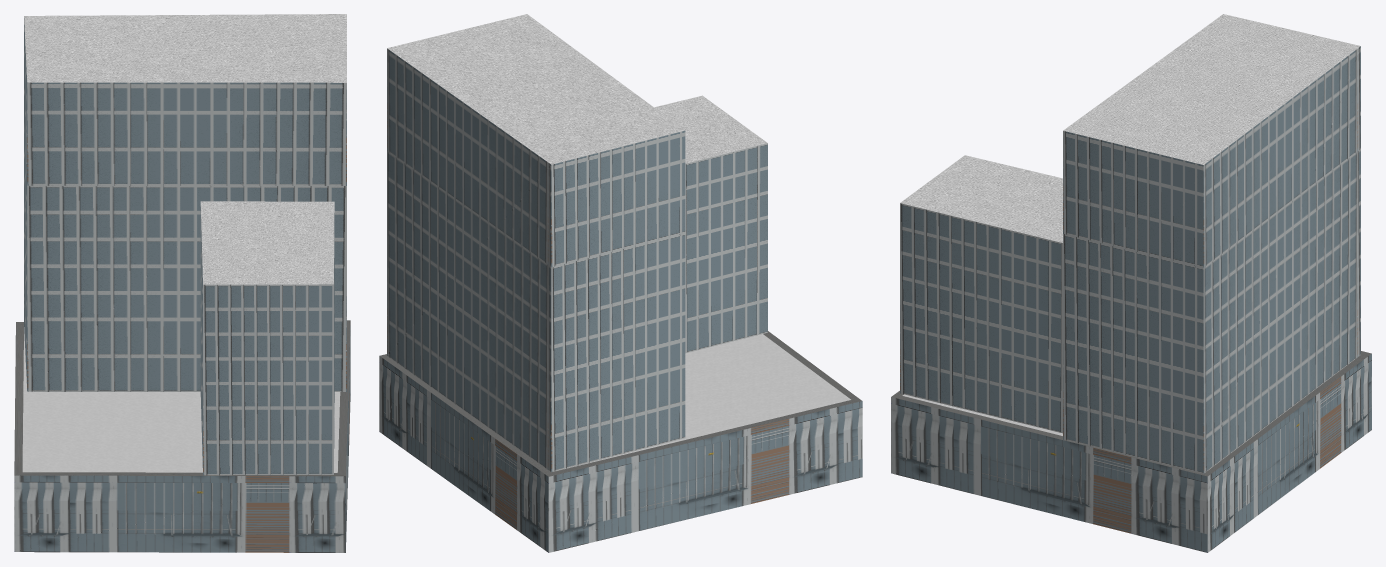
File: shiyanlou2.gltf
The picture shows the model from 3 angles, left to right: view 1: azimuth 30°, elevation 25°; view 2: azimuth 150°, elevation 25°; view 3: azimuth 270°, elevation 25°; orthographic projection.
Parts seen in each view (by area): view 1: Line3117628; view 2: Line3117628; view 3: Line3117628.
Part boxes in pixels (x1=…): Line3117628: x1=14, y1=14, x2=350, y2=552; Line3117628: x1=379, y1=14, x2=862, y2=552; Line3117628: x1=891, y1=14, x2=1371, y2=552.
Size of the model in its own units: 333 by 299 by 338.
Materials: 7 (7 with a texture image).
